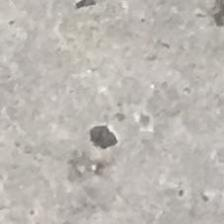Non_Crack: (10, 34, 224, 115)
